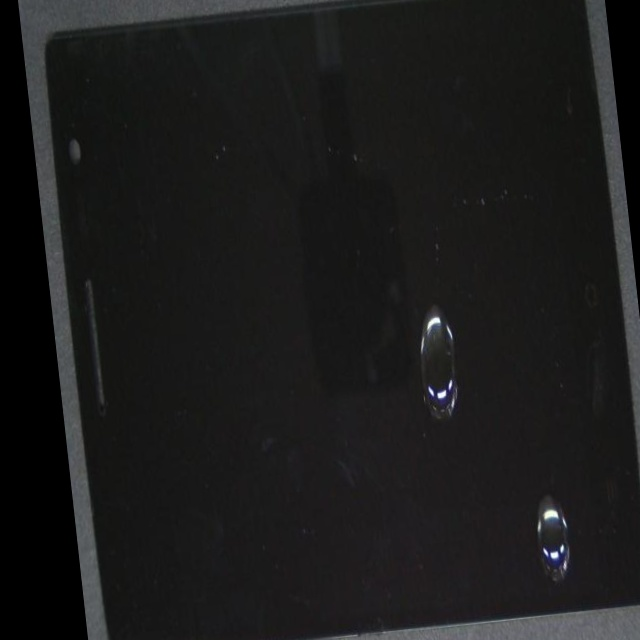oil: (244, 101, 640, 531), (308, 219, 640, 640)
